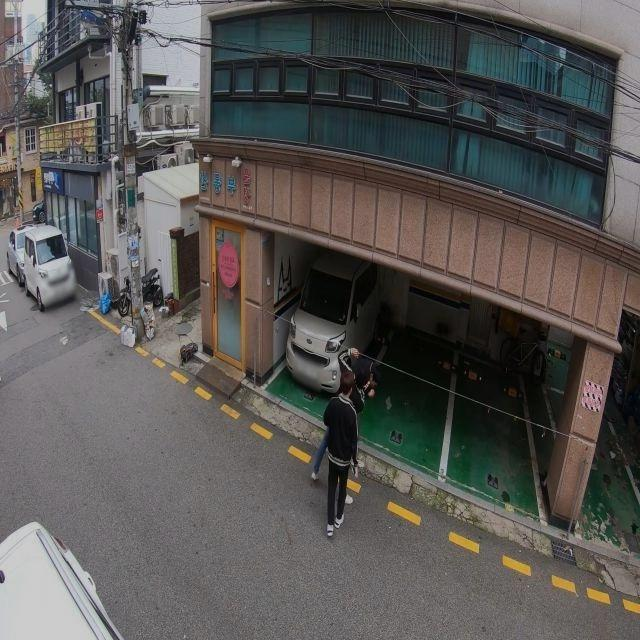fight: (301, 342, 379, 536)
